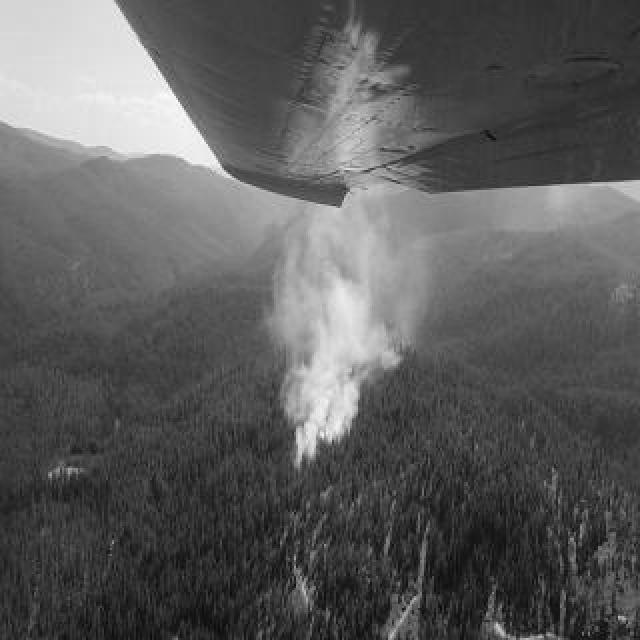smoke: (258, 172, 430, 472)
